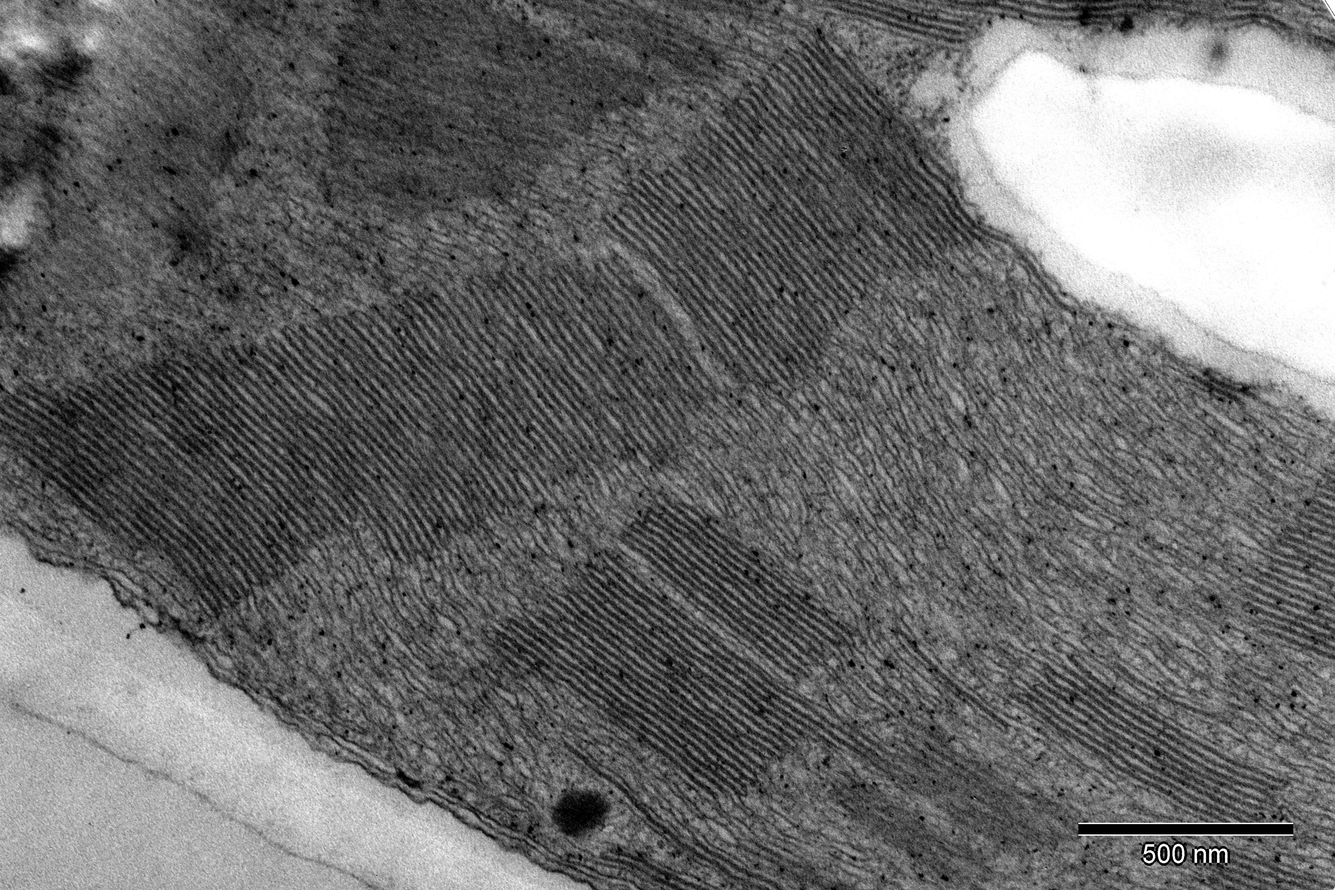granum: (0, 238, 724, 641), (601, 24, 993, 419), (488, 545, 827, 810), (311, 0, 669, 229), (996, 646, 1297, 848), (810, 663, 1082, 871), (609, 480, 863, 691), (797, 0, 1335, 66), (1238, 449, 1335, 674), (662, 811, 912, 890), (517, 0, 738, 87), (1154, 842, 1335, 890), (597, 837, 723, 890), (1190, 363, 1254, 410)
